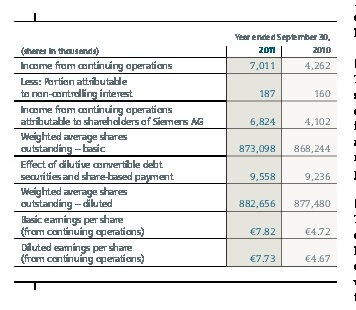table: (0, 0, 356, 310)
